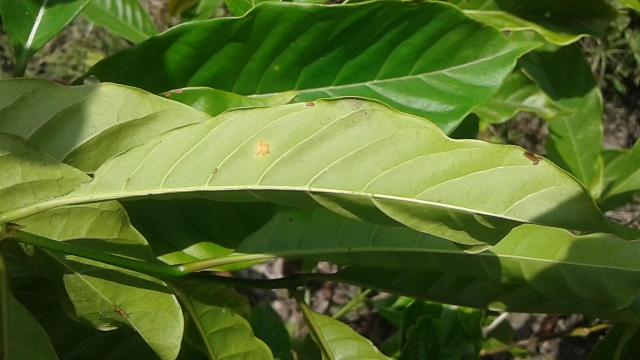rust_level_1: (65, 96, 640, 238)
